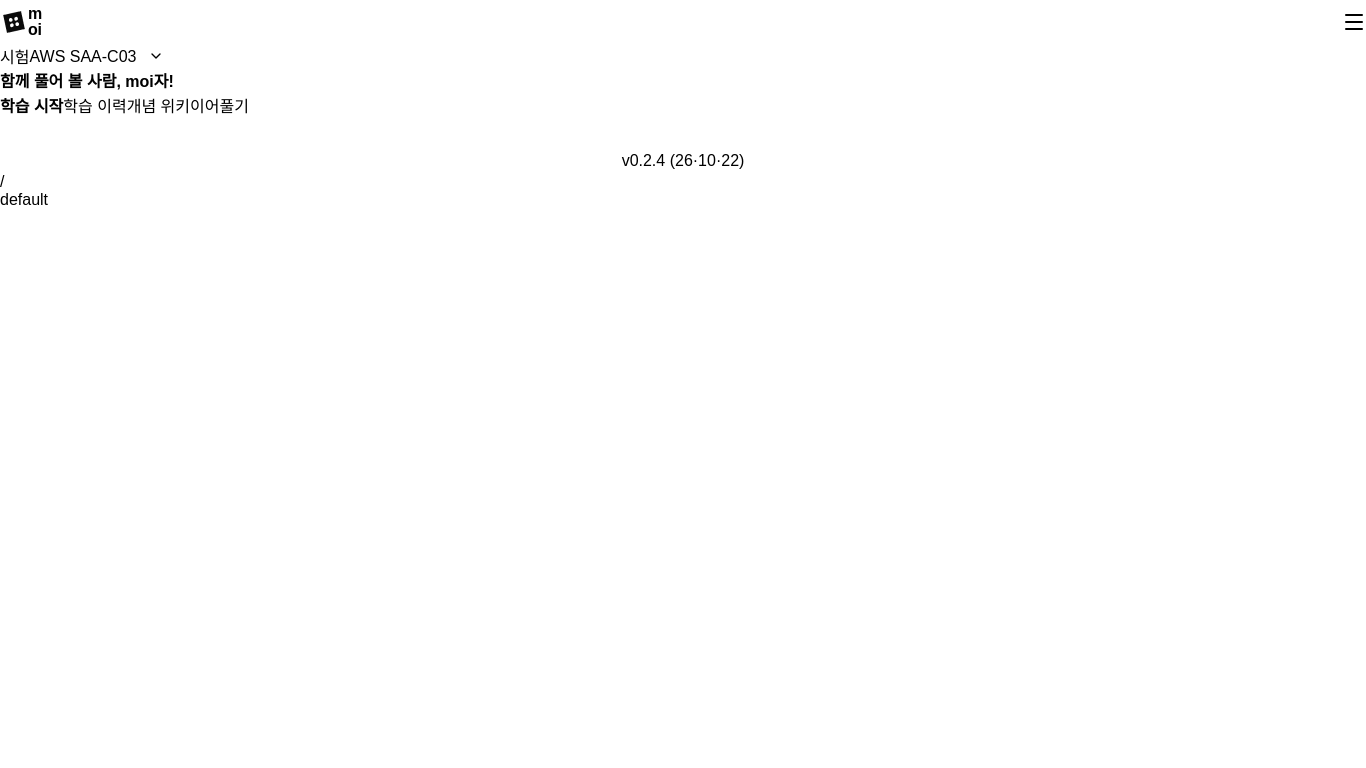
Test: #239 셸 — selector 1개·중복 없음 (AC 1·2, #273 콘텐츠 최상단) › 모바일도 Drawer를 열지 않고 콘텐츠 최상단 1개만 노출한다 — Drawer에는 없다
Expected: the number of dropdowns labelled "시험" is 1, [30,48,180,64]
Click the button named "메뉴 열기" at (1354, 22), box [1342,10,1365,34]
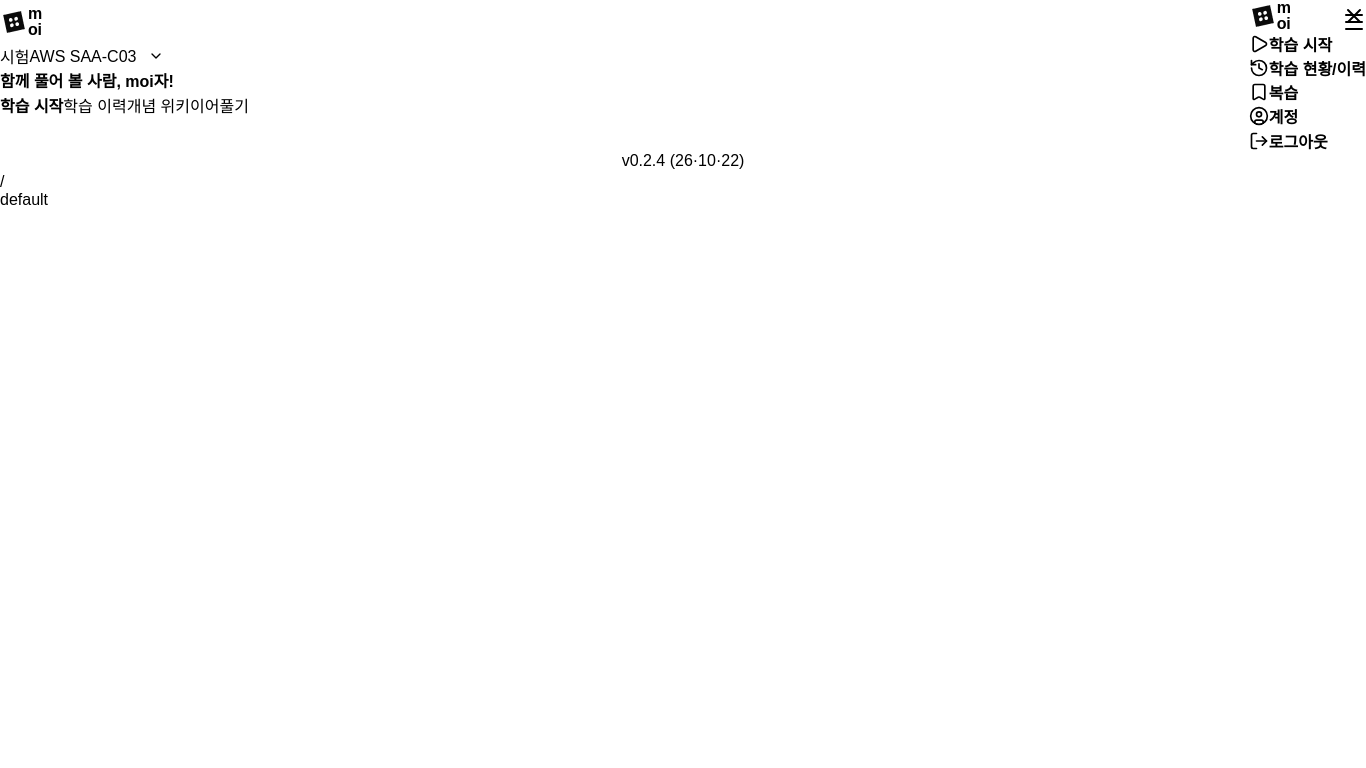
Expected: the number of dropdowns labelled "시험" is 1, [30,48,180,64]
Expected: the dialog is shown, [1249,0,1365,154]
